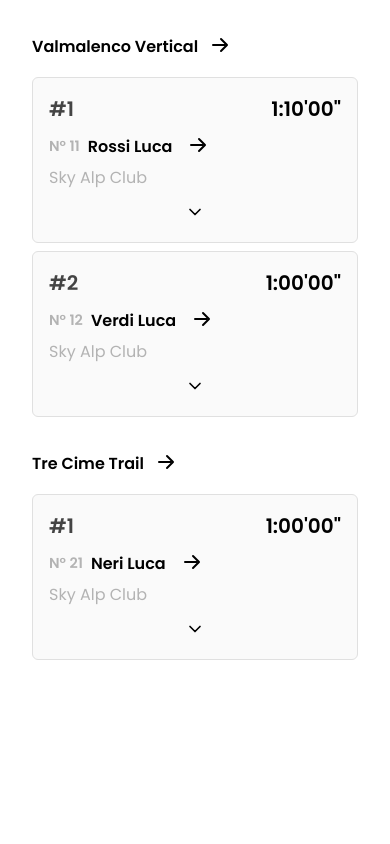
Test: ResultsCards › groups results by race and renders the athlete info inside cards
expect the heading "Valmalenco Vertical" is shown: met, box top-left (32, 34), bottom-right (198, 59)
expect the heading "Tre Cime Trail" is shown: met, box top-left (32, 451), bottom-right (144, 476)
Click the button named "Mostra dettagli" below "Rossi Luca". click: coordinates (195, 212)
box: top-left (181, 198), bottom-right (209, 226)
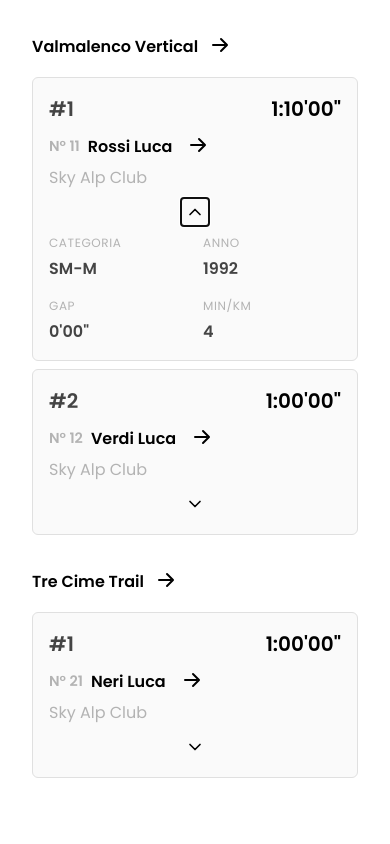
expect the text "Categoria" is shown: met, box top-left (49, 234), bottom-right (122, 251)
